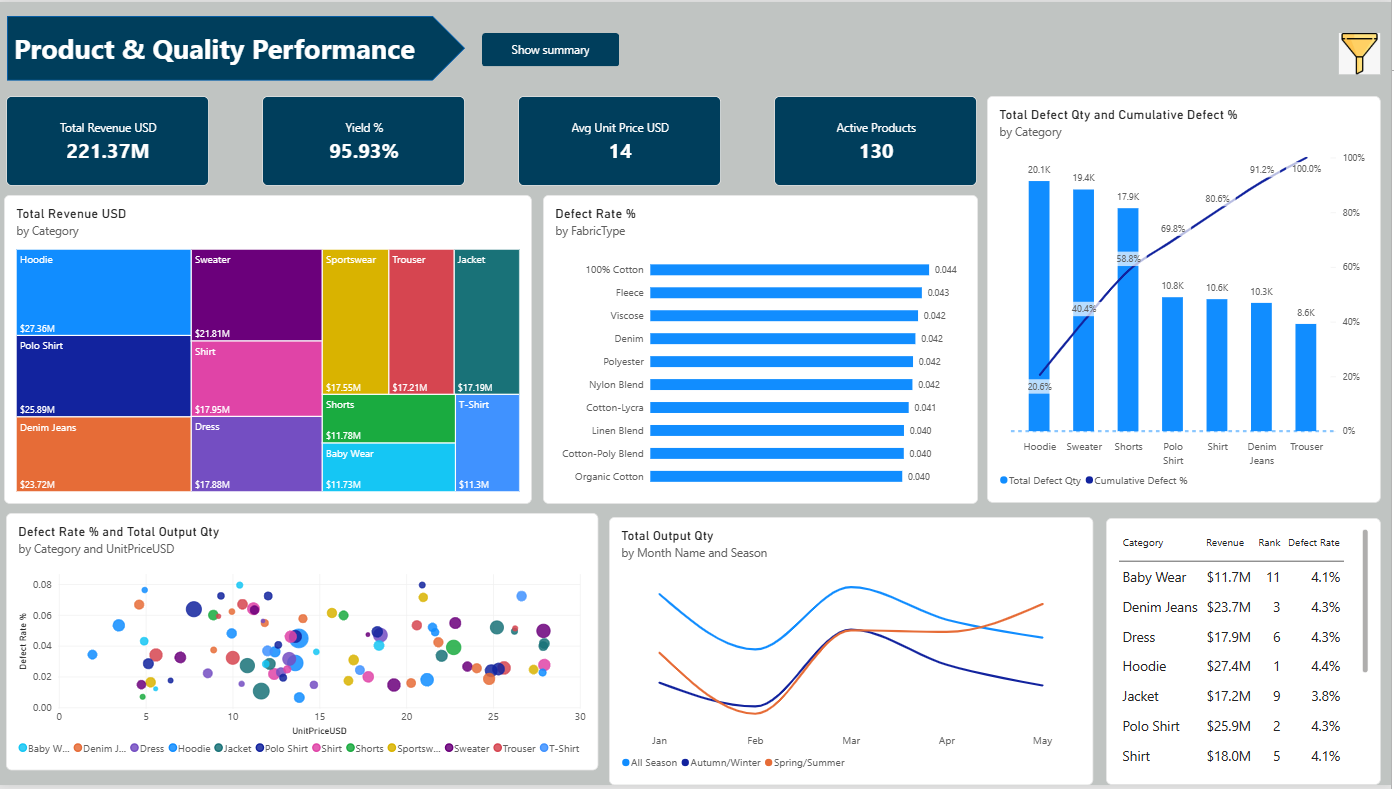

Layout of this report page (visuals, bound fields, positions):
{"tool":"powerbi","page":{"name":"Prod&Qty","canvas":[1920,1080],"ordinal":2},"visuals":[{"type":"cardVisual","fields":{"Data":["Query1.Total Revenue USD"]},"box":[9.3,129.8,280.1,124],"z":0},{"type":"cardVisual","fields":{"Data":["Query1.Yield %"]},"box":[362.6,129.8,280.1,124],"z":1000},{"type":"cardVisual","fields":{"Data":["Dashboard3.Active Products"]},"box":[1069.3,129.8,280.1,124],"z":2000},{"type":"cardVisual","fields":{"Data":["Dashboard3.Avg Unit Price USD"]},"box":[716,129.8,280.1,124],"z":3000},{"type":"shape","box":[11.7,19,631.7,89],"z":4000},{"type":"textbox","box":[20.4,37.9,605.5,51.1],"z":5000},{"type":"scatterChart","fields":{"Series":["DimProduct3.Category"],"Size":["Query1.Total Output Qty"],"X":["DimProduct3.UnitPriceUSD"],"Y":["Query1.Defect Rate %"]},"box":[9.3,704.9,816.7,355.1],"z":6000},{"type":"lineChart","fields":{"Category":["DimDate4.Month Name"],"Series":["DimProduct3.Season"],"Y":["Query1.Total Output Qty"]},"box":[841.9,710.2,667.7,369.8],"z":7000},{"type":"treemap","fields":{"Group":["DimProduct3.Category"],"Values":["Query1.Total Revenue USD"]},"box":[7.3,265.5,728,426],"z":8000},{"type":"barChart","fields":{"Category":["DimProduct3.FabricType"],"Y":["Query1.Defect Rate %"]},"box":[749.9,265.5,599.6,426],"z":9000},{"type":"lineClusteredColumnComboChart","fields":{"Category":["DimProduct3.Category"],"Y":["Query1.Total Defect Qty"],"Y2":["Dashboard3.Cumulative Defect %"]},"box":[1363.3,130.3,542.7,561.3],"z":10000},{"type":"tableEx","fields":{"Values":["DimProduct3.Category","Dashboard3.Revenue per Category","Dashboard3.Category Revenue Rank","Dashboard3.Defect Rate by Category"]},"box":[1526.9,711.6,379.1,368.4],"z":11000},{"type":"image","box":[1833.1,42.8,86.9,56.6],"z":13000},{"type":"actionButton","box":[666.2,42.3,189.2,46.3],"z":13001}]}

Visuals, with their boxes in screenshot pixels (x1, y1, x2, y2), scaled from the page's 1920x1080 canvas onto the 1394x789 screenshot:
cardVisual - Query1.Total Revenue USD: [left=7, top=95, right=210, bottom=185]
cardVisual - Query1.Yield %: [left=263, top=95, right=467, bottom=185]
cardVisual - Dashboard3.Active Products: [left=776, top=95, right=980, bottom=185]
cardVisual - Dashboard3.Avg Unit Price USD: [left=520, top=95, right=723, bottom=185]
shape: [left=8, top=14, right=467, bottom=79]
textbox: [left=15, top=28, right=454, bottom=65]
scatterChart - DimProduct3.Category x Query1.Total Output Qty: [left=7, top=515, right=600, bottom=774]
lineChart - DimDate4.Month Name x DimProduct3.Season: [left=611, top=519, right=1096, bottom=788]
treemap - DimProduct3.Category x Query1.Total Revenue USD: [left=5, top=194, right=534, bottom=505]
barChart - DimProduct3.FabricType x Query1.Defect Rate %: [left=544, top=194, right=980, bottom=505]
lineClusteredColumnComboChart - DimProduct3.Category x Query1.Total Defect Qty: [left=990, top=95, right=1384, bottom=505]
tableEx - DimProduct3.Category x Dashboard3.Revenue per Category: [left=1109, top=520, right=1384, bottom=788]
image: [left=1331, top=31, right=1393, bottom=73]
actionButton: [left=484, top=31, right=621, bottom=65]
